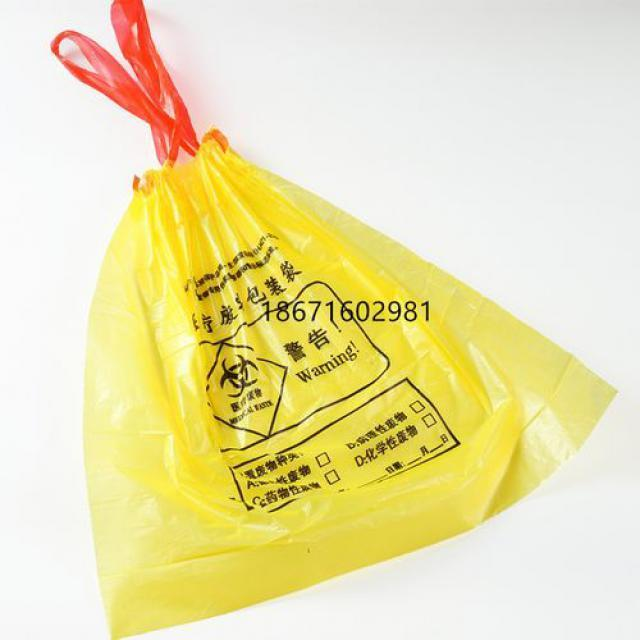waste: (48, 35, 580, 582)
